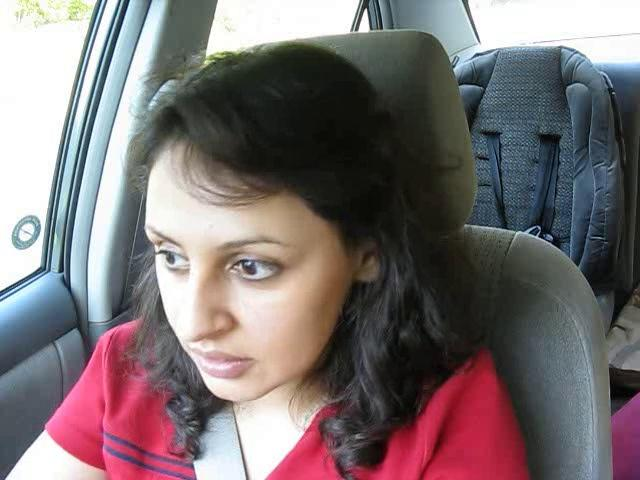no_yawn: (175, 340, 266, 385)
open_eyeL: (146, 238, 199, 278)
open_eyeR: (215, 246, 294, 293)
